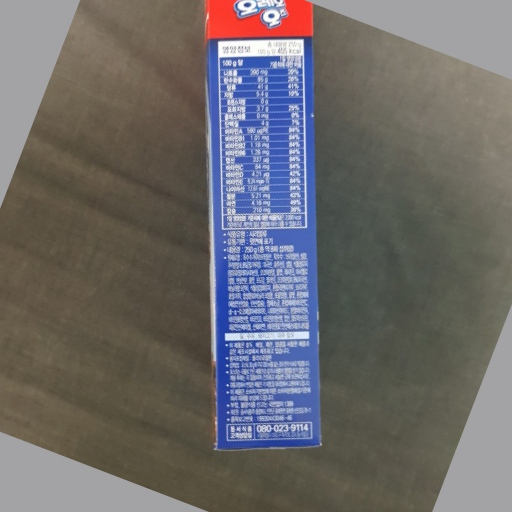Paper_0: (199, 1, 331, 464)
